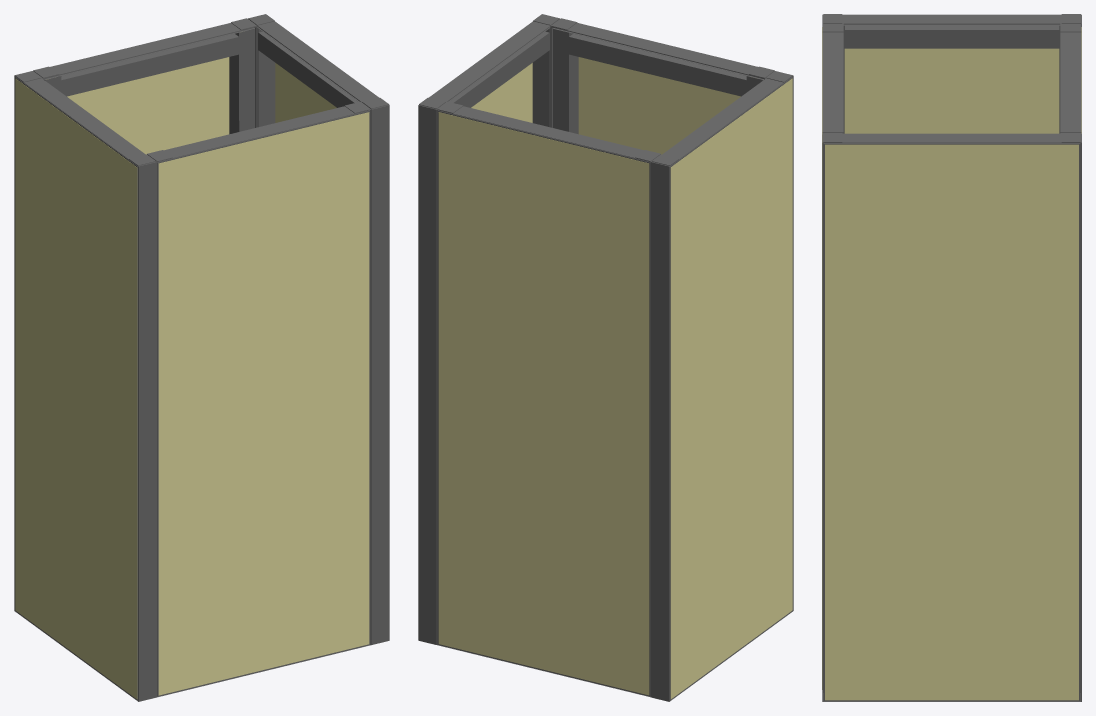
The model's file is Header Half Panels.glb.
3 views of the same model, side by side, from view 1: azimuth 30°, elevation 25°; view 2: azimuth 150°, elevation 25°; view 3: azimuth 270°, elevation 25° (orthographic). The views are drawn at different scales.
Parts seen in each view (by area): view 1: Standard 19.011, Standard 19.009, Standard 19.007, Standard 19.008; view 2: Standard 19.007, Standard 19.009, Standard 19.011, Standard 19.008; view 3: Standard 19.008, Standard 19.009, Standard 19.011, Standard 19.007.
Part boxes in pixels (box(x1,y1,x2,y2)): Standard 19.011: box(147, 101, 371, 697); Standard 19.009: box(14, 71, 156, 701); Standard 19.007: box(33, 18, 257, 154); Standard 19.008: box(248, 14, 389, 644); Standard 19.007: box(436, 101, 660, 697); Standard 19.009: box(651, 71, 793, 701); Standard 19.011: box(550, 18, 774, 154); Standard 19.008: box(418, 14, 559, 644); Standard 19.008: box(822, 133, 1081, 701); Standard 19.009: box(822, 14, 1081, 133); Standard 19.011: box(822, 23, 843, 689); Standard 19.007: box(1060, 23, 1081, 133).
Size of the model in its own units: 0.577 by 1.18 by 0.4944.
